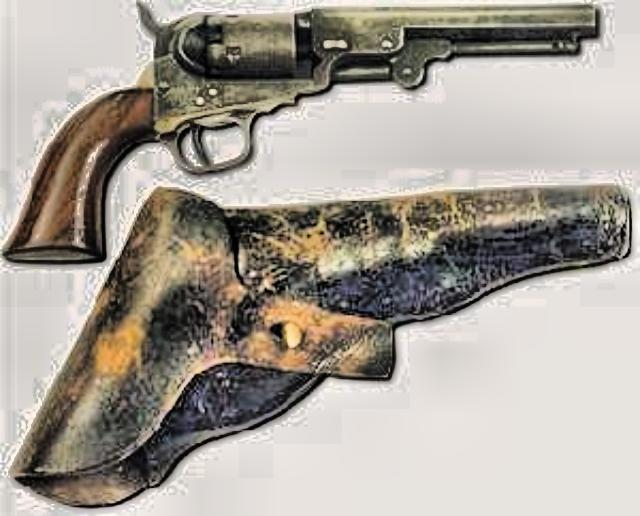pistol: (1, 0, 604, 264)
